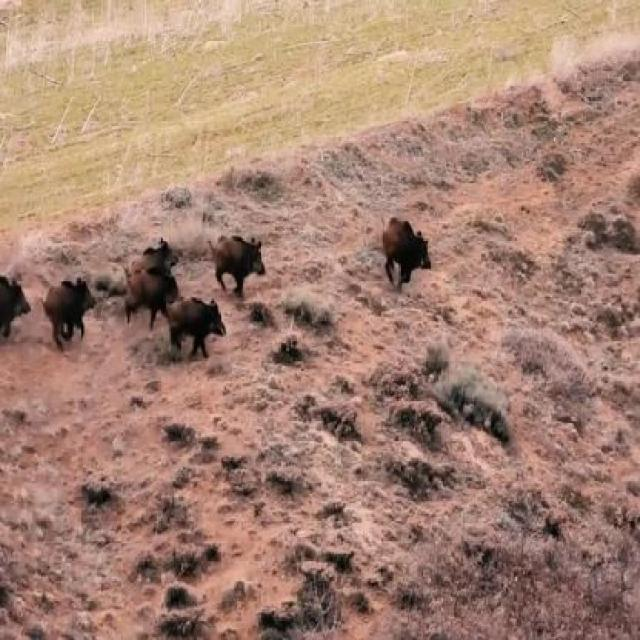pig: (117, 243, 179, 331), (376, 202, 428, 293), (43, 275, 99, 357), (212, 229, 276, 300), (169, 292, 232, 360), (126, 224, 184, 274), (0, 252, 31, 344)
